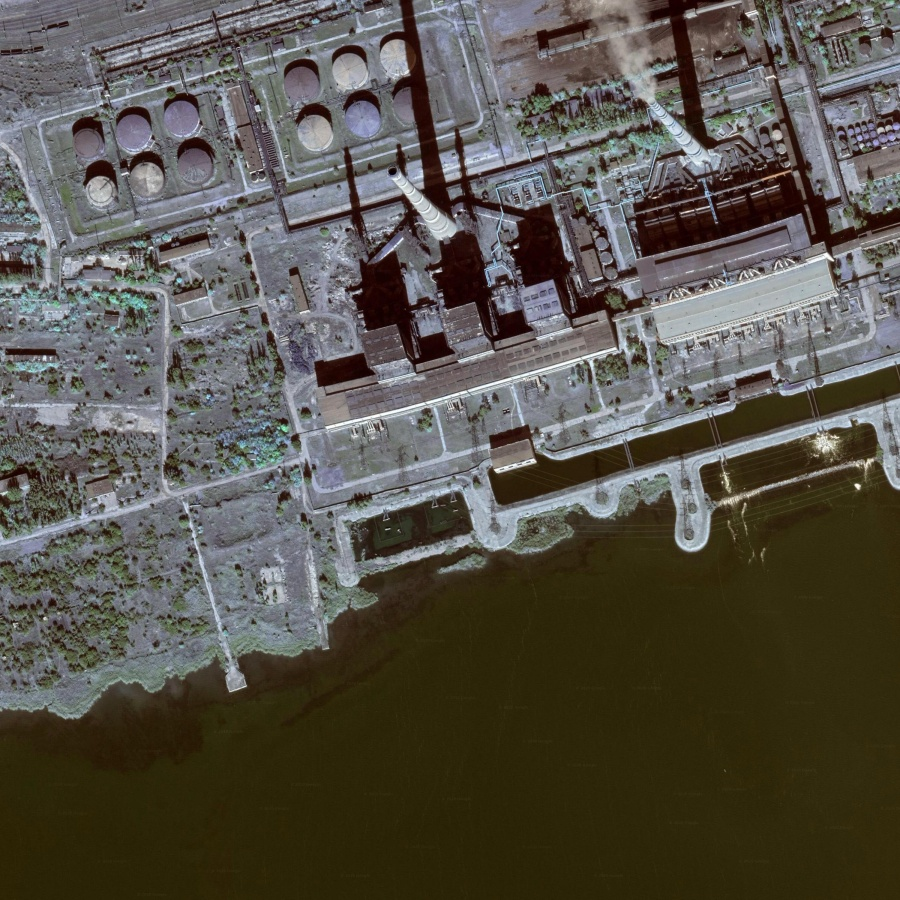PowerPlant: (34, 70, 242, 246)
